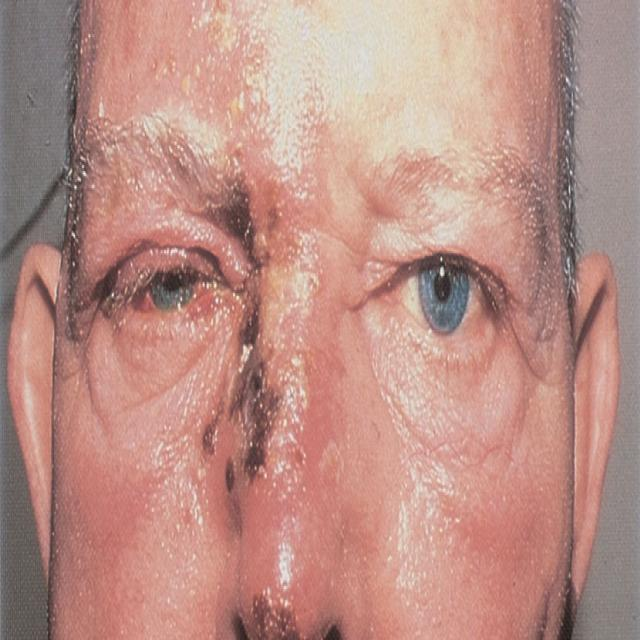herpes zoster: (199, 150, 283, 514), (147, 4, 281, 126), (248, 584, 304, 638)
